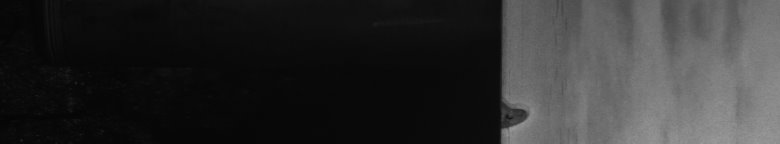hb: (512, 100, 534, 131)
